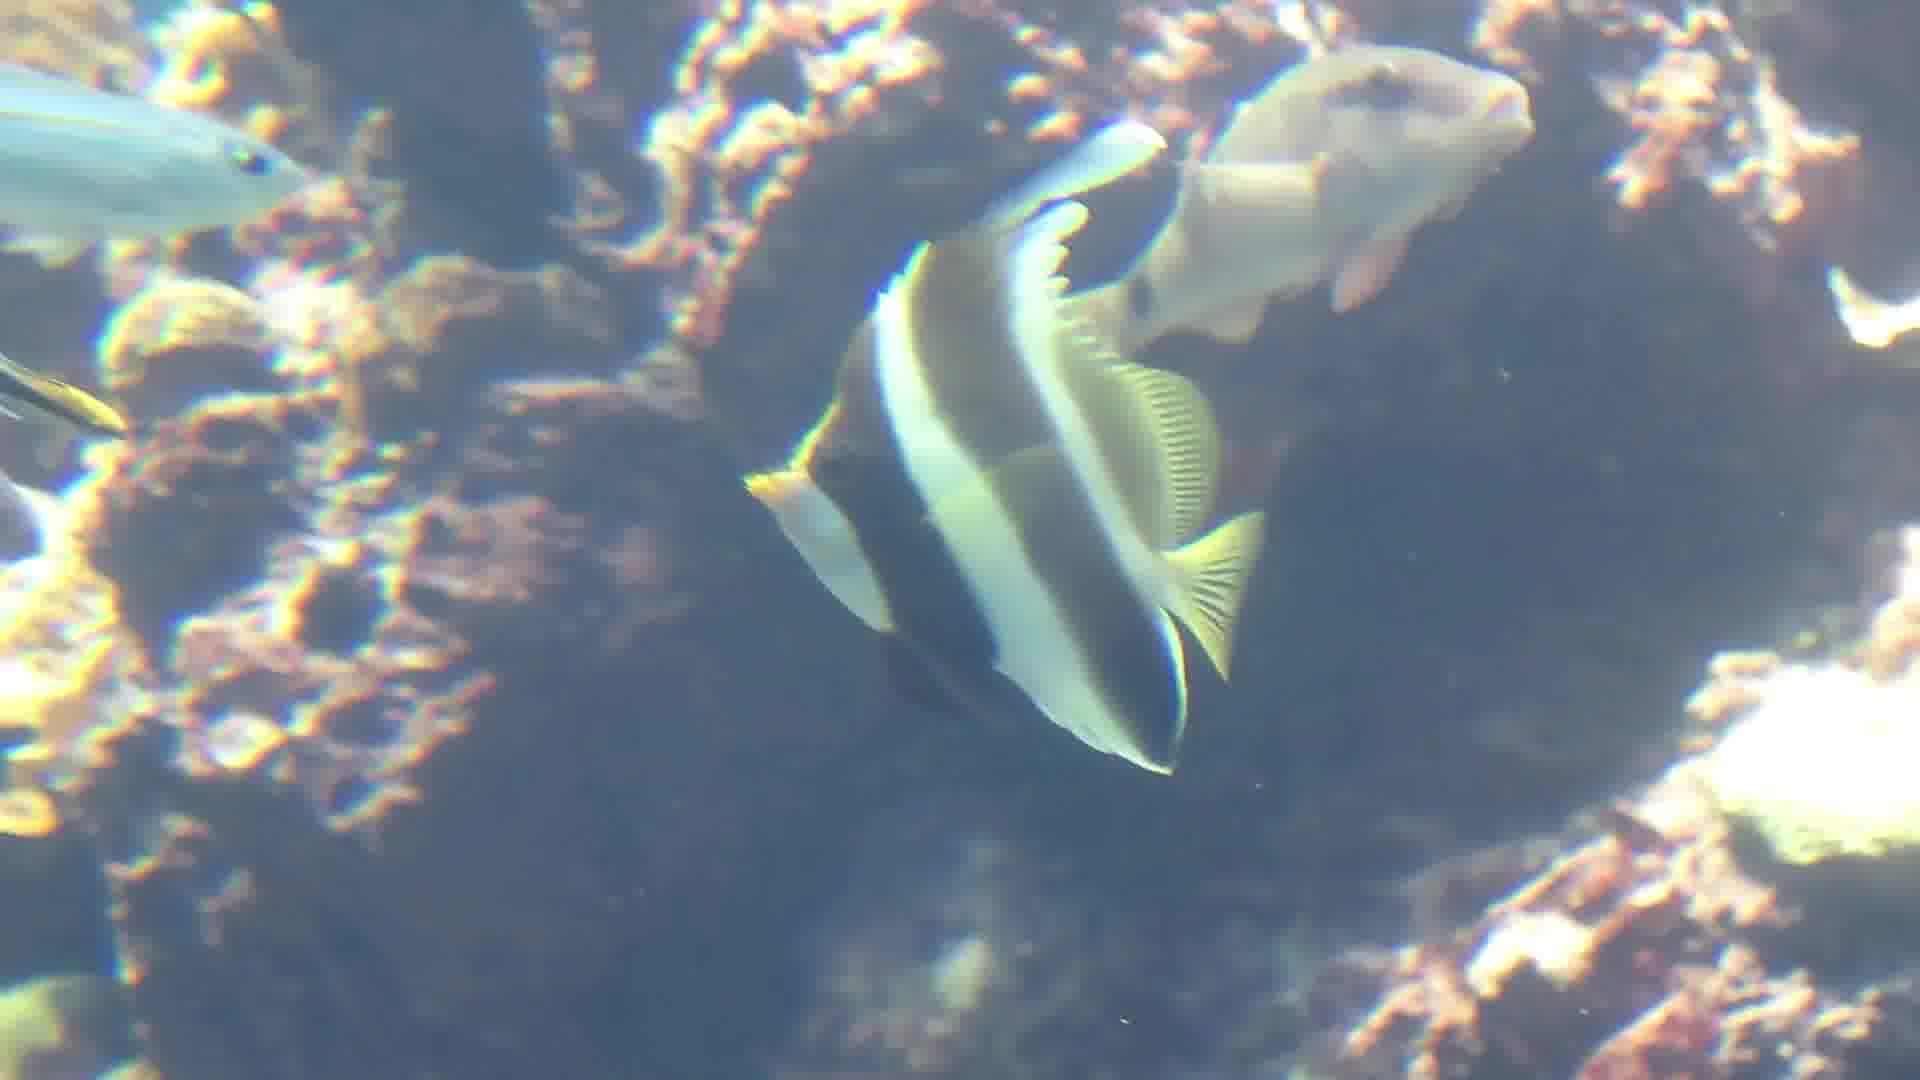Heniochus chrysostomus: (637, 123, 1304, 820)
